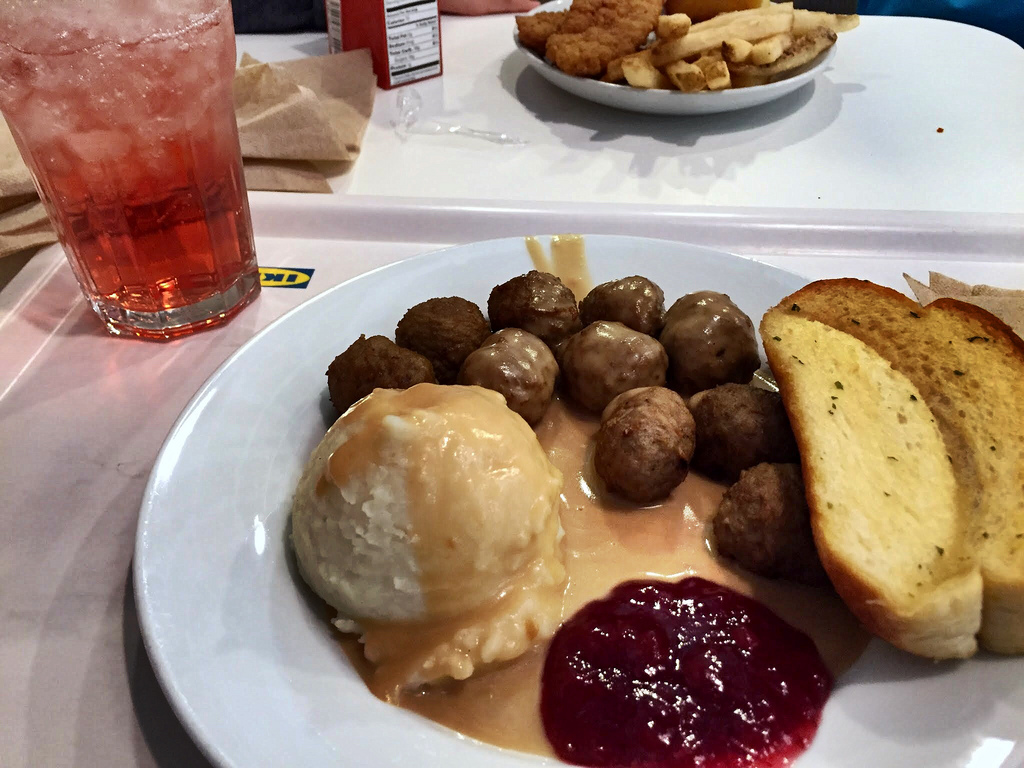meatballs: (399, 299, 765, 453)
slice of bread: (786, 281, 1024, 632)
